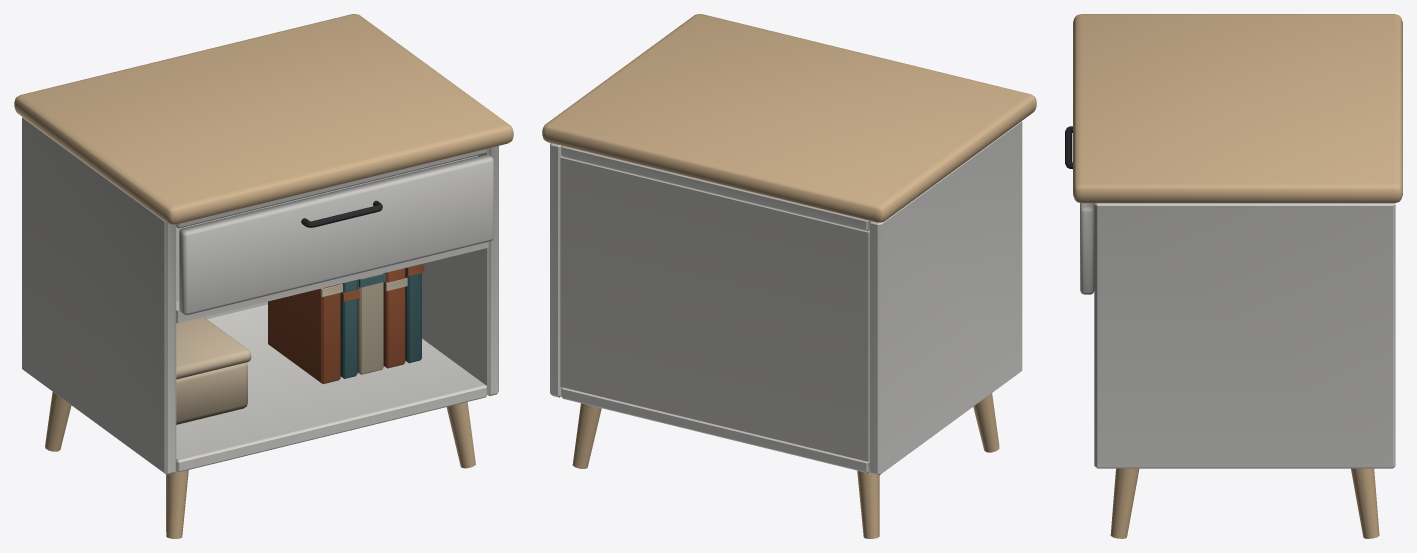
File: nightstandModern.glb
The picture shows the model from 3 angles, left to right: view 1: azimuth 30°, elevation 25°; view 2: azimuth 150°, elevation 25°; view 3: azimuth 270°, elevation 25°; orthographic projection. The views are drawn at different scales.
Visible parts, largest first — view 1: nightstandModern; view 2: nightstandModern; view 3: nightstandModern.
Boxes of the visible parts, bbox=[...] form: nightstandModern: bbox=[14, 14, 513, 538]; nightstandModern: bbox=[542, 14, 1036, 538]; nightstandModern: bbox=[1065, 14, 1402, 538].
Size of the model in its own units: 0.58 by 0.56 by 0.471.
